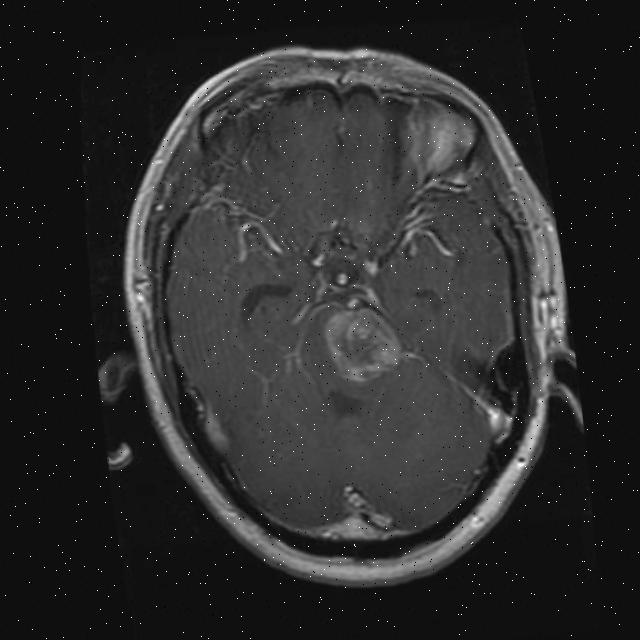Glioma: (322, 302, 408, 384)
